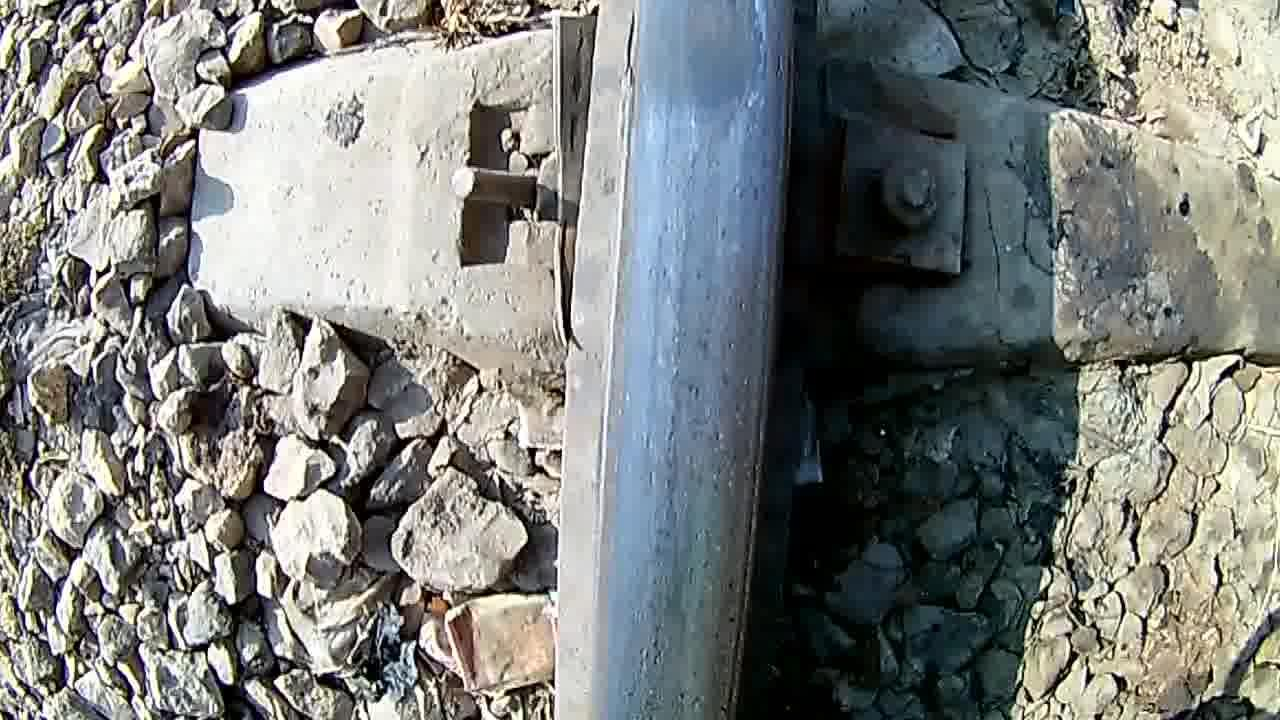bolt_missing: (610, 0, 795, 154)
